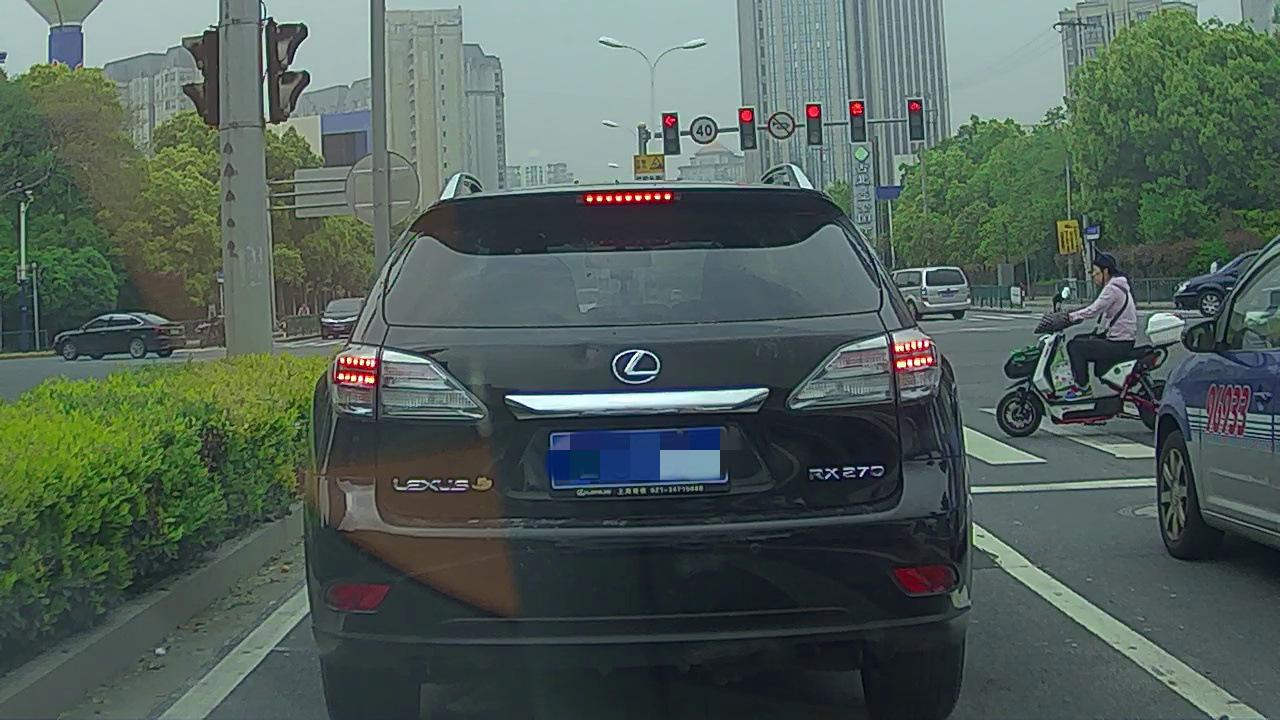traffic_light: (737, 106, 757, 151), (805, 103, 823, 146), (662, 112, 680, 154), (848, 101, 866, 143), (907, 98, 924, 141)
